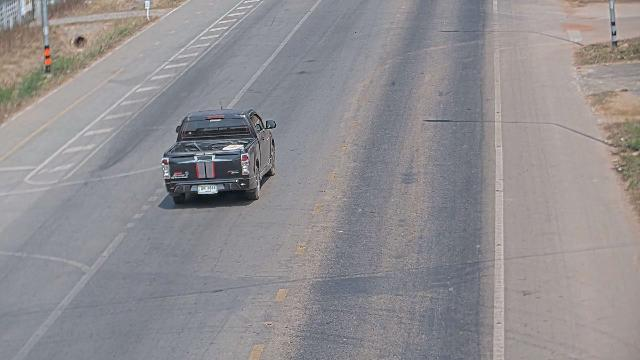pickup-truck: (160, 105, 277, 204)
